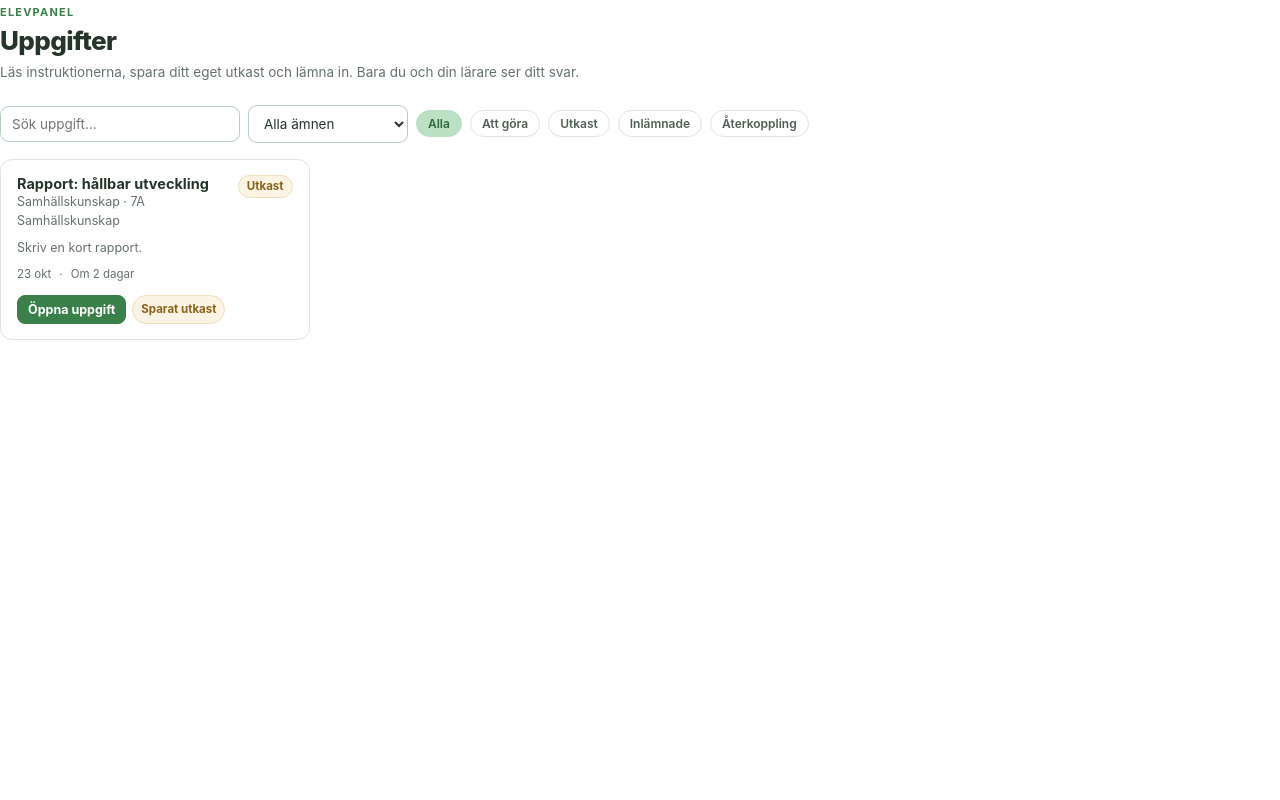
Scenario: ElevUppgifter › visar uppgiften och öppnar detaljvyn med elevens eget svar
Expected: the heading "Rapport: hållbar utveckling" is shown, [17,175,228,193]
Click the button "Öppna uppgift".
click(72, 310)  # box [17,295,126,324]
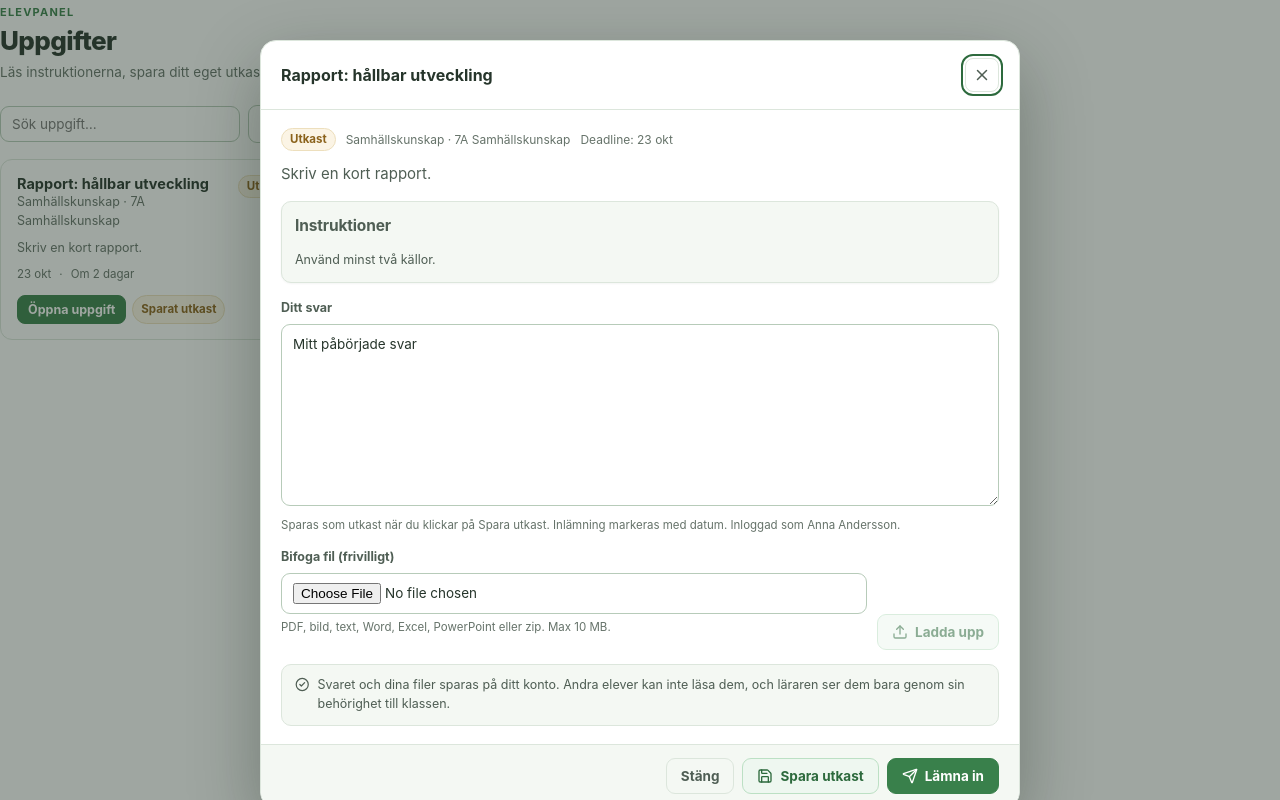
Expected: the text "Använd minst två källor." is shown, [295,252,436,267]
Expected: the text box labelled "Ditt svar" holds "Mitt påbörjade svar", [281,324,999,506]
